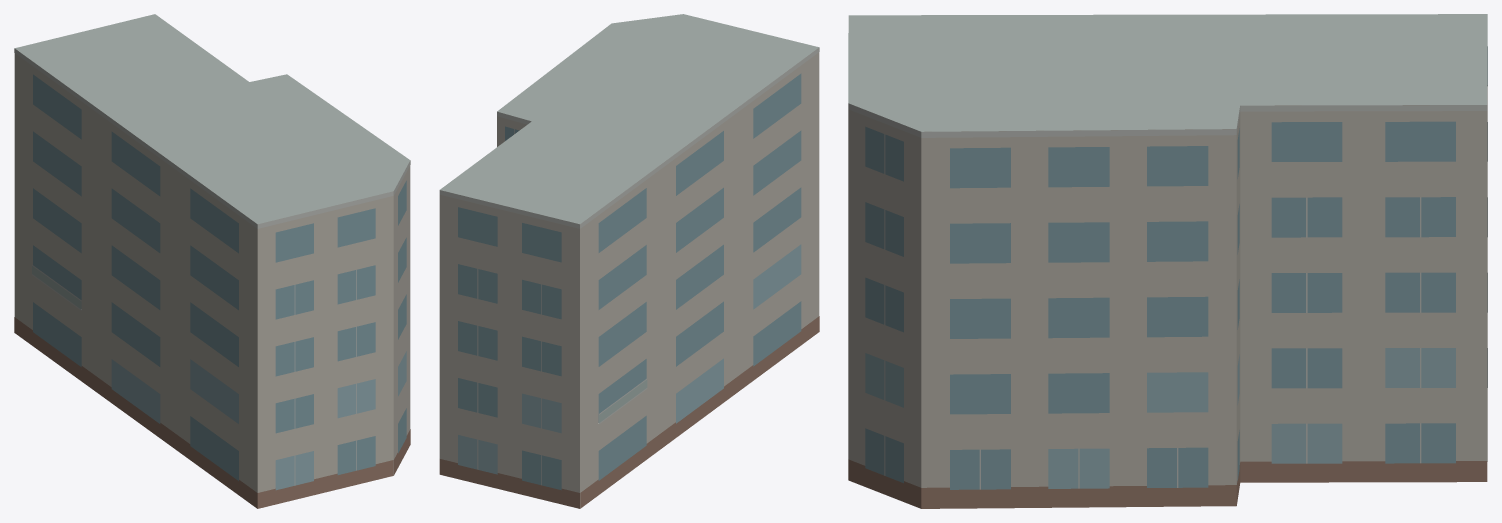
File: survey-upis-32569197.glb
3 renders of one model, left to right at view 1: azimuth 30°, elevation 25°; view 2: azimuth 150°, elevation 25°; view 3: azimuth 270°, elevation 25°, orthographic. The views are drawn at different scales.
Parts seen in each view (by area): view 1: survey-upis-32569197.tmp; view 2: survey-upis-32569197.tmp; view 3: survey-upis-32569197.tmp.
Boxes of the visible parts, x1,y1,x2,y2 form: survey-upis-32569197.tmp: (14, 14, 410, 508); survey-upis-32569197.tmp: (439, 14, 819, 508); survey-upis-32569197.tmp: (848, 14, 1487, 508).
Bounding box in the file's own units: 10.09 × 15 × 23.06.
